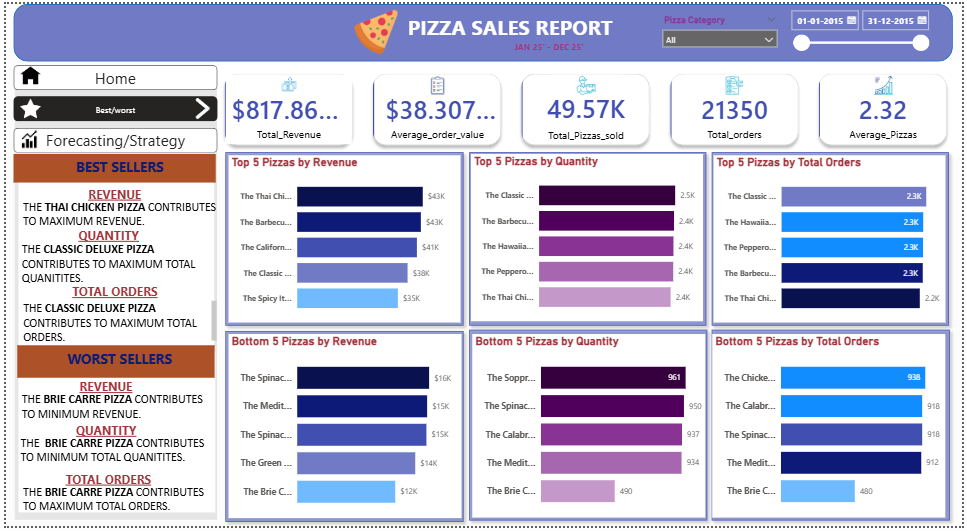

The dashboard page shown, as its layout file describes it:
{"tool":"powerbi","page":{"name":"Best/worst'","canvas":[1500,820],"ordinal":1},"visuals":[{"type":"cardVisual","fields":{"Data":["pizza_sales$.Total_Revenue","pizza_sales$.Average_order_value","pizza_sales$.Total_Pizzas_sold","pizza_sales$.Total_orders","pizza_sales$.Average_Pizzas_Per_order"]},"box":[324.3,90,1175.7,150],"z":0},{"type":"shape","box":[12.7,0,1473.2,90.1],"z":1000},{"type":"textbox","box":[14.5,0,1472.5,82.6],"z":2000},{"type":"image","box":[531.7,8.3,98.3,71.7],"z":3000},{"type":"shape","box":[334.8,223.2,391.3,289.9],"z":4000},{"type":"textbox","box":[791.7,53.3,121.7,28.3],"z":5000},{"type":"shape","box":[14.5,120.3,317.4,689.9],"z":6000},{"type":"slicer","fields":{"Values":["pizza_sales$.pizza_category"]},"box":[1020,11.7,200,71.7],"z":7000},{"type":"slicer","fields":{"Values":["pizza_sales$.order_date"]},"box":[1220,0,236.7,81.7],"z":8000},{"type":"image","box":[12.9,117.1,64.3,48.6],"z":9000},{"type":"shape","box":[12.1,103.4,317.2,55.2],"z":10000},{"type":"textbox","box":[106.9,110.3,127.6,48.3],"z":11000},{"type":"image","box":[10.3,110.3,60.3,41.4],"z":12000},{"type":"shape","box":[12.1,165.5,317.2,55.2],"z":13000},{"type":"textbox","box":[33.3,168.3,275,55],"z":14000},{"type":"image","box":[11.7,168.3,48.3,41.7],"z":15000},{"type":"shape","box":[20.3,547.8,308.7,250.7],"z":16000},{"type":"shape","box":[19,270.7,306.9,301.7],"z":17000},{"type":"shape","box":[17.2,529.3,310.3,56.9],"z":18000},{"type":"shape","box":[12.1,234.5,317.2,44.8],"z":19000},{"type":"textbox","box":[60.3,536.2,246.6,44.8],"z":20000},{"type":"textbox","box":[29.3,236.2,298.3,43.1],"z":21000},{"type":"textbox","box":[58.6,270.7,224.1,43.1],"z":22000},{"type":"textbox","box":[19,293.1,315.5,55.2],"z":23000},{"type":"textbox","box":[600,10,381.7,61.7],"z":24000},{"type":"shape","box":[717.4,223.2,389.9,289.9],"z":25000},{"type":"shape","box":[1097.1,223.2,389.9,289.9],"z":26000},{"type":"shape","box":[334.5,503.4,391.4,317.2],"z":27000},{"type":"shape","box":[717.1,502.9,391.4,317.1],"z":28000},{"type":"shape","box":[1097.1,502.9,391.4,317.1],"z":29000},{"type":"clusteredBarChart","title":"Top 5 Pizzas by Revenue","fields":{"Category":["pizza_sales$.pizza_name"],"Y":["pizza_sales$.Total_Revenue"]},"box":[349,237,364,262],"z":30000},{"type":"clusteredBarChart","title":"Bottom 5 Pizzas by Revenue","fields":{"Category":["pizza_sales$.pizza_name"],"Y":["pizza_sales$.Total_Revenue"]},"box":[348.3,517.2,365.5,289],"z":31000},{"type":"clusteredBarChart","title":"Top 5 Pizzas by Quantity","fields":{"Category":["pizza_sales$.pizza_name"],"Y":["pizza_sales$.Total_Pizzas_sold"]},"box":[729.3,236.2,363.8,262.1],"z":32000},{"type":"clusteredBarChart","title":"Top 5 Pizzas by Total Orders","fields":{"Category":["pizza_sales$.pizza_name"],"Y":["pizza_sales$.Total_orders"]},"box":[1110.3,237.9,363.8,262.1],"z":33000},{"type":"clusteredBarChart","title":"Bottom 5 Pizzas by Quantity","fields":{"Category":["pizza_sales$.pizza_name"],"Y":["pizza_sales$.Total_Pizzas_sold"]},"box":[731,517.2,365.5,287.9],"z":34000},{"type":"clusteredBarChart","title":"Bottom 5 Pizzas by Total Orders","fields":{"Category":["pizza_sales$.pizza_name"],"Y":["pizza_sales$.Total_orders"]},"box":[1108.6,517.2,365.5,287.9],"z":35000},{"type":"textbox","box":[48.3,344.8,224.1,43.1],"z":36000},{"type":"textbox","box":[19,367.2,315.5,87.9],"z":37000},{"type":"textbox","box":[58.6,432.8,224.1,43.1],"z":38000},{"type":"textbox","box":[20.7,455.2,315.5,74.1],"z":39000},{"type":"textbox","box":[45,581.7,223.3,41.7],"z":40000},{"type":"textbox","box":[19,603.4,315.5,55.2],"z":41000},{"type":"textbox","box":[44.8,651.7,224.1,43.1],"z":42000},{"type":"textbox","box":[18.3,673.3,316.7,75],"z":43000},{"type":"textbox","box":[48.3,726.7,223.3,41.7],"z":44000},{"type":"textbox","box":[22.4,748.3,315.5,72.4],"z":45000},{"type":"actionButton","box":[13.8,103.4,317.2,55.2],"z":46000},{"type":"image","box":[283.3,171.7,53.3,38.3],"z":47000}]}

Visuals, with their boxes in screenshot pixels (x1, y1, x2, y2), scaled from the page's 1500x820 canvas onto the 967x531 screenshot:
cardVisual - pizza_sales$.Total_Revenue x pizza_sales$.Average_order_value: 209, 58, 966, 155
shape: 8, 0, 958, 58
textbox: 9, 0, 959, 53
image: 343, 5, 406, 52
shape: 216, 145, 468, 332
textbox: 510, 35, 589, 53
shape: 9, 78, 214, 525
slicer - pizza_sales$.pizza_category: 658, 8, 786, 54
slicer - pizza_sales$.order_date: 786, 0, 939, 53
image: 8, 76, 50, 107
shape: 8, 67, 212, 103
textbox: 69, 71, 151, 103
image: 7, 71, 46, 98
shape: 8, 107, 212, 143
textbox: 21, 109, 199, 145
image: 8, 109, 39, 136
shape: 13, 355, 212, 517
shape: 12, 175, 210, 371
shape: 11, 343, 211, 380
shape: 8, 152, 212, 181
textbox: 39, 347, 198, 376
textbox: 19, 153, 211, 181
textbox: 38, 175, 182, 203
textbox: 12, 190, 216, 226
textbox: 387, 6, 633, 46
shape: 462, 145, 714, 332
shape: 707, 145, 959, 332
shape: 216, 326, 468, 530
shape: 462, 326, 715, 530
shape: 707, 326, 960, 530
"Top 5 Pizzas by Revenue" clusteredBarChart: 225, 153, 460, 323
"Bottom 5 Pizzas by Revenue" clusteredBarChart: 225, 335, 460, 522
"Top 5 Pizzas by Quantity" clusteredBarChart: 470, 153, 705, 323
"Top 5 Pizzas by Total Orders" clusteredBarChart: 716, 154, 950, 324
"Bottom 5 Pizzas by Quantity" clusteredBarChart: 471, 335, 707, 521
"Bottom 5 Pizzas by Total Orders" clusteredBarChart: 715, 335, 950, 521
textbox: 31, 223, 176, 251
textbox: 12, 238, 216, 295
textbox: 38, 280, 182, 308
textbox: 13, 295, 217, 343
textbox: 29, 377, 173, 404
textbox: 12, 391, 216, 426
textbox: 29, 422, 173, 450
textbox: 12, 436, 216, 485
textbox: 31, 471, 175, 498
textbox: 14, 485, 218, 530
actionButton: 9, 67, 213, 103
image: 183, 111, 217, 136
